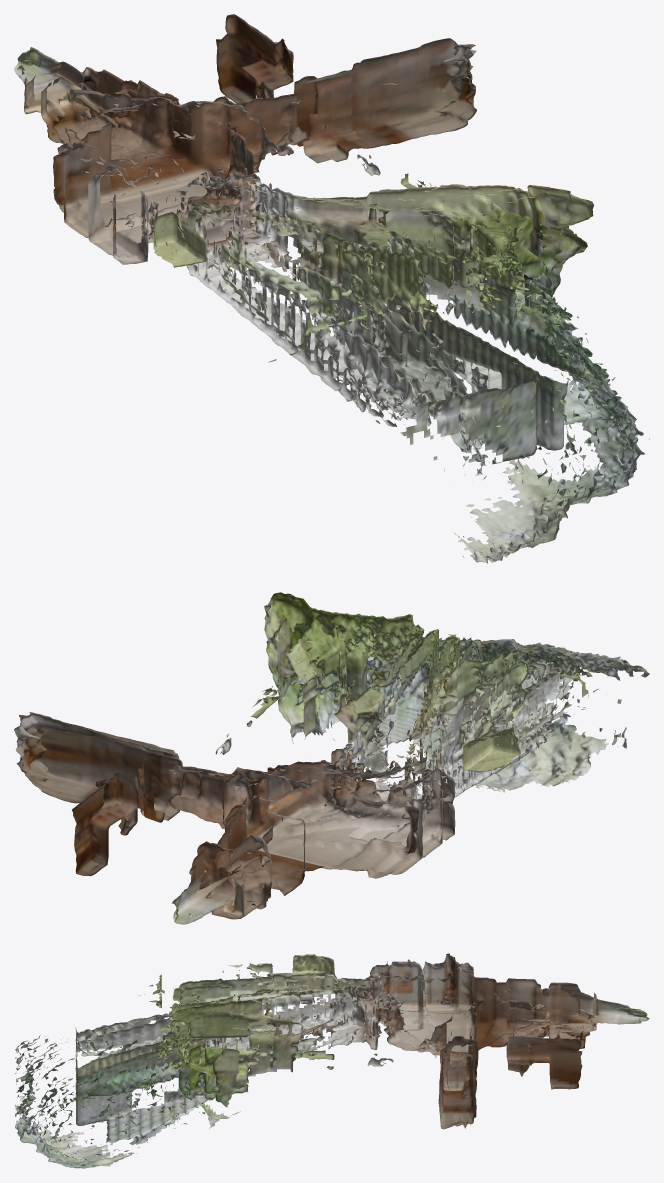
Rendered from contemporary-living-room.glb.
The picture shows the model from 3 angles, top to bottom: view 1: azimuth 30°, elevation 25°; view 2: azimuth 150°, elevation 25°; view 3: azimuth 270°, elevation 25°; orthographic projection. The views are drawn at different scales.
Parts seen in each view (by area): view 1: world; view 2: world; view 3: world.
Boxes of the visible parts, x1,y1,x2,y2 form: world: [14, 14, 649, 563]; world: [14, 592, 649, 924]; world: [15, 953, 649, 1168].
Size of the model in its own units: 12.29 by 6.36 by 23.31.
